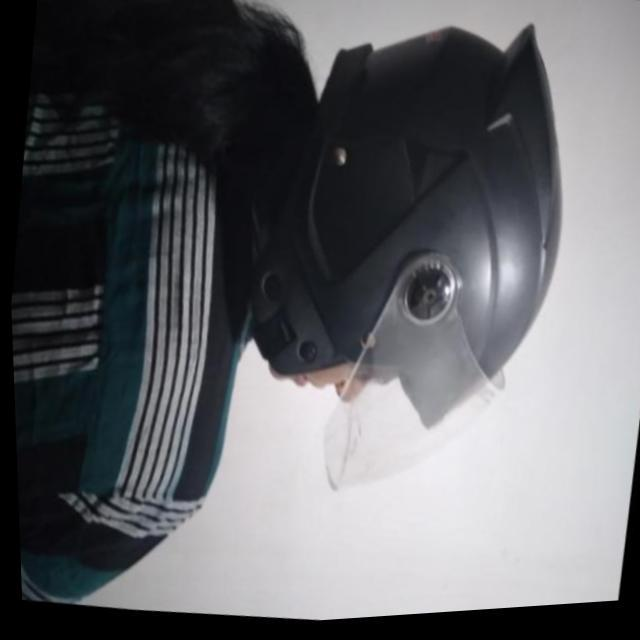with_helmet: (256, 33, 571, 458)
